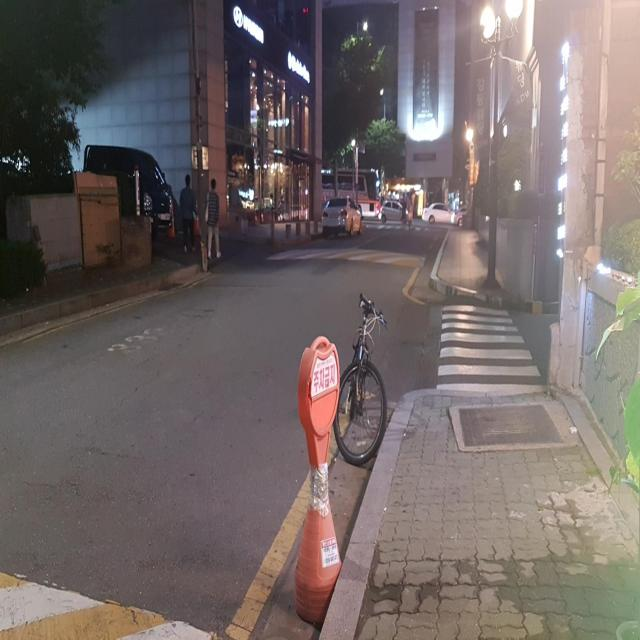횡단보도: (436, 304, 547, 392)
